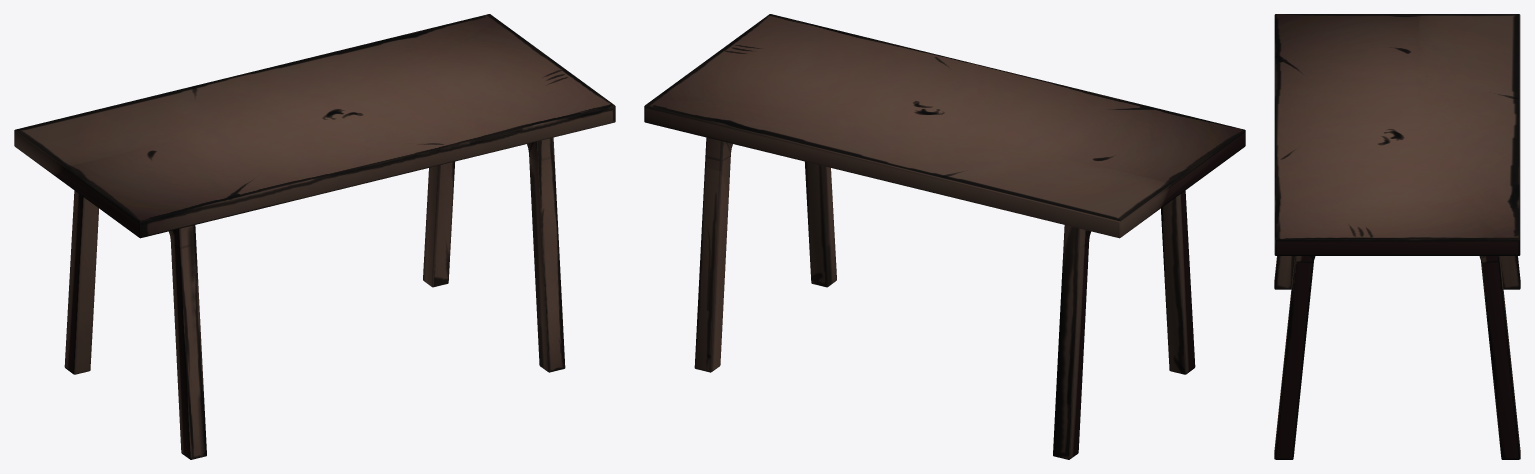
File: Dining_Table.glb
3 renders of one model, left to right at view 1: azimuth 30°, elevation 25°; view 2: azimuth 150°, elevation 25°; view 3: azimuth 270°, elevation 25°, orthographic. The views are drawn at different scales.
Parts seen in each view (by area): view 1: huitugou_2062_635; view 2: huitugou_2062_635; view 3: huitugou_2062_635.
Part boxes in pixels (x1=…): huitugou_2062_635: x1=14, y1=14, x2=615, y2=459; huitugou_2062_635: x1=644, y1=14, x2=1245, y2=459; huitugou_2062_635: x1=1274, y1=14, x2=1520, y2=459.
Bounding box in the file's own units: 1.7 × 0.8571 × 0.782.
Materials: 1 (1 with a texture image).
